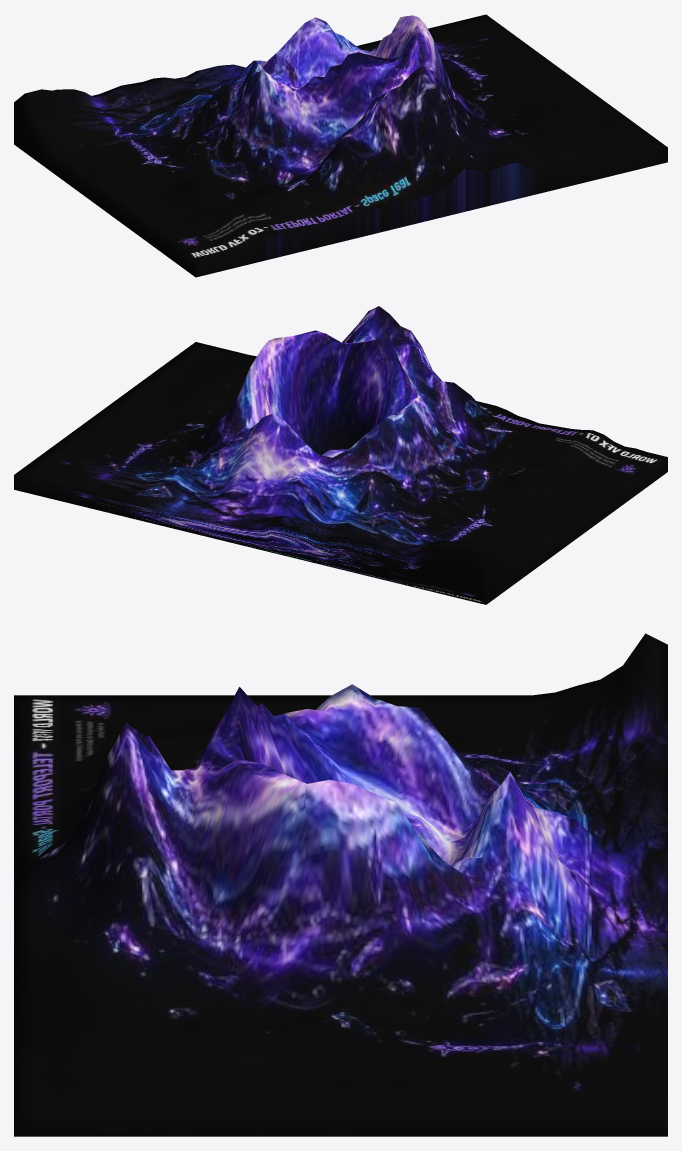
File: WORLD_VFX_07_Teleport_Portal.glb
The picture shows the model from 3 angles, top to bottom: view 1: azimuth 30°, elevation 25°; view 2: azimuth 150°, elevation 25°; view 3: azimuth 270°, elevation 25°; orthographic projection. The views are drawn at different scales.
Visible parts, largest first — view 1: WORLD_VFX_07_Teleport_Portal; view 2: WORLD_VFX_07_Teleport_Portal; view 3: WORLD_VFX_07_Teleport_Portal.
Part boxes in pixels (x1=…): WORLD_VFX_07_Teleport_Portal: x1=14, y1=14, x2=667, y2=277; WORLD_VFX_07_Teleport_Portal: x1=14, y1=306, x2=667, y2=604; WORLD_VFX_07_Teleport_Portal: x1=14, y1=633, x2=667, y2=1136.
Bounding box in the file's own units: 2 × 0.51 × 1.33.
Materials: 1 (1 with a texture image).
